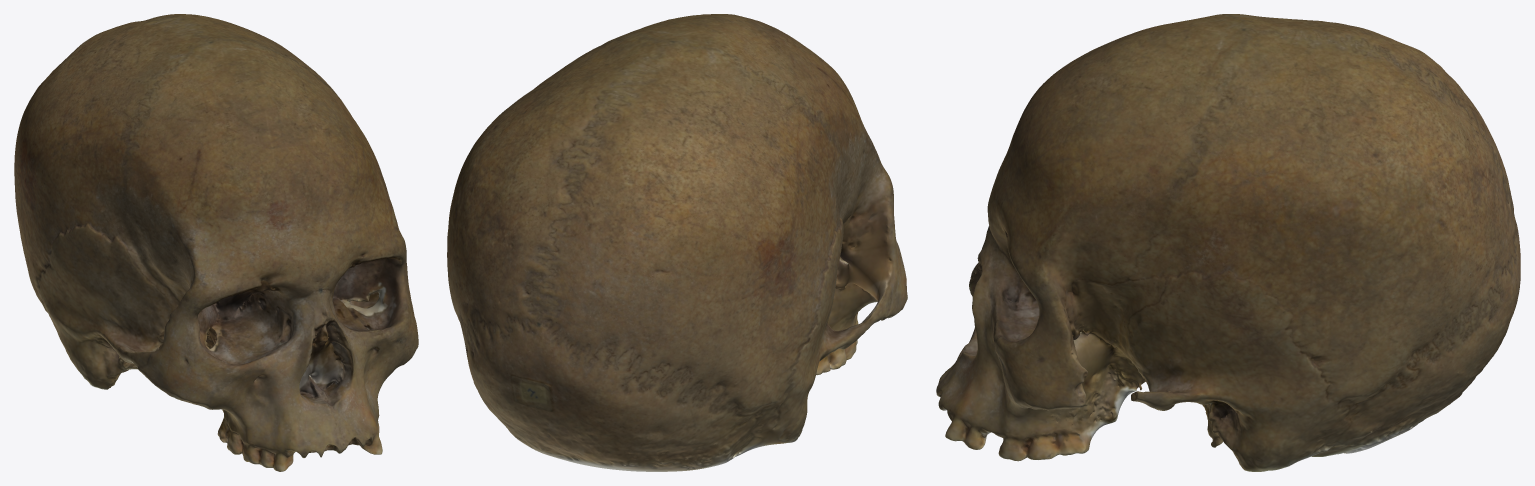
File: scull.glb
3 renders of one model, left to right at view 1: azimuth 30°, elevation 25°; view 2: azimuth 150°, elevation 25°; view 3: azimuth 270°, elevation 25°, orthographic. The views are drawn at different scales.
Visible parts, largest first — view 1: Object_2, Object_3, Object_4; view 2: Object_2, Object_3, Object_4; view 3: Object_2, Object_3, Object_4.
Boxes of the visible parts, bbox=[...] form: Object_2: bbox=[14, 14, 418, 457]; Object_3: bbox=[52, 186, 418, 471]; Object_4: bbox=[60, 287, 410, 454]; Object_2: bbox=[447, 14, 907, 471]; Object_3: bbox=[760, 179, 893, 446]; Object_4: bbox=[800, 254, 895, 412]; Object_2: bbox=[939, 14, 1520, 471]; Object_3: bbox=[936, 109, 1348, 471]; Object_4: bbox=[938, 269, 1253, 437].
Bounding box in the file's own units: 3.13 × 3.53 × 4.73.
Materials: 2 (2 with a texture image).
